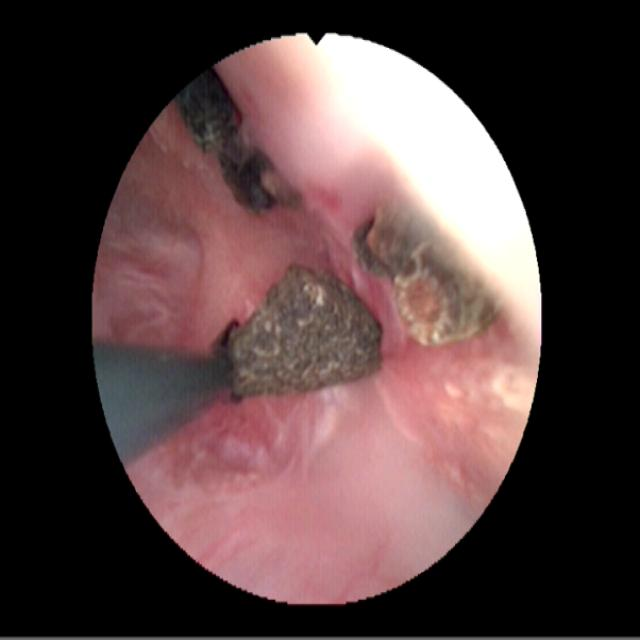stone: (351, 196, 502, 342), (229, 267, 381, 399), (177, 74, 299, 211)
